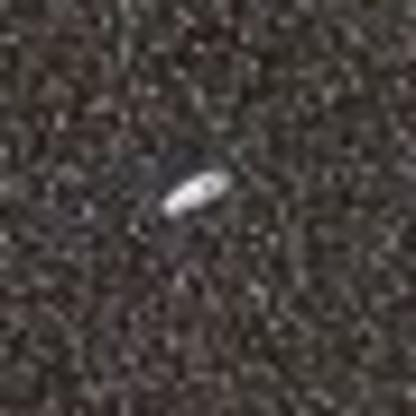ship: (158, 162, 238, 218)
